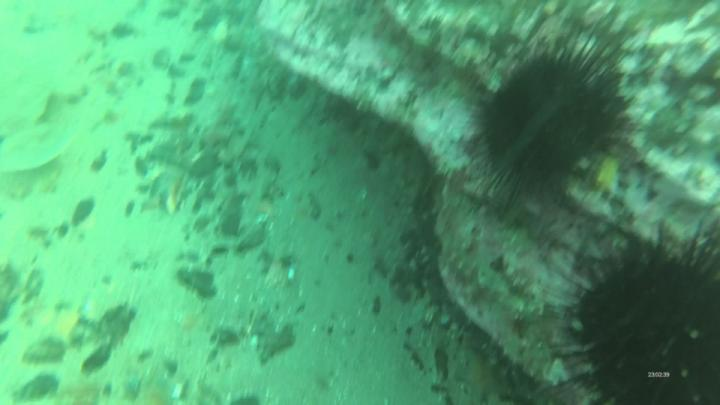echinus: (579, 250, 720, 405), (484, 56, 610, 198)
starfish: (454, 352, 511, 404)
